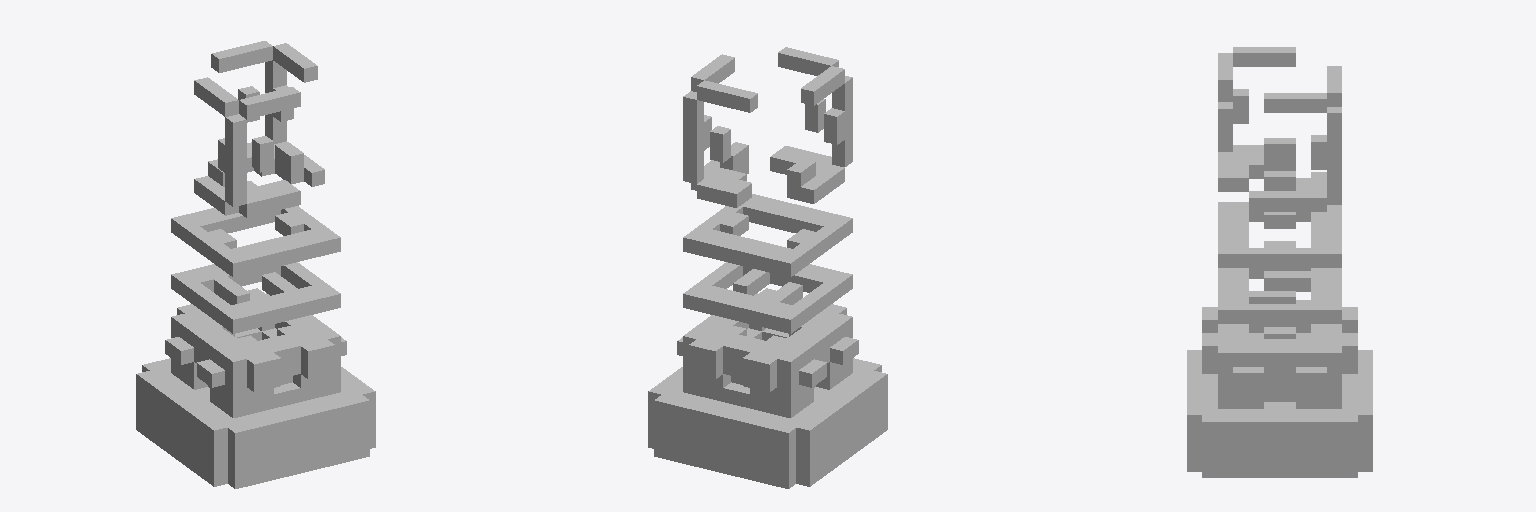
File: assassin.blue.obj
The picture shows the model from 3 angles: view 1: azimuth 30°, elevation 25°; view 2: azimuth 150°, elevation 25°; view 3: azimuth 270°, elevation 25°; orthographic projection.
Parts seen in each view (by area): view 1: object 1; view 2: object 1; view 3: object 1.
Boxes of the visible parts, <box> form: object 1: <box>136,41,375,488</box>; object 1: <box>648,47,887,488</box>; object 1: <box>1187,47,1372,477</box>.
Size of the model in its own units: 1.2 by 2.6 by 1.2.